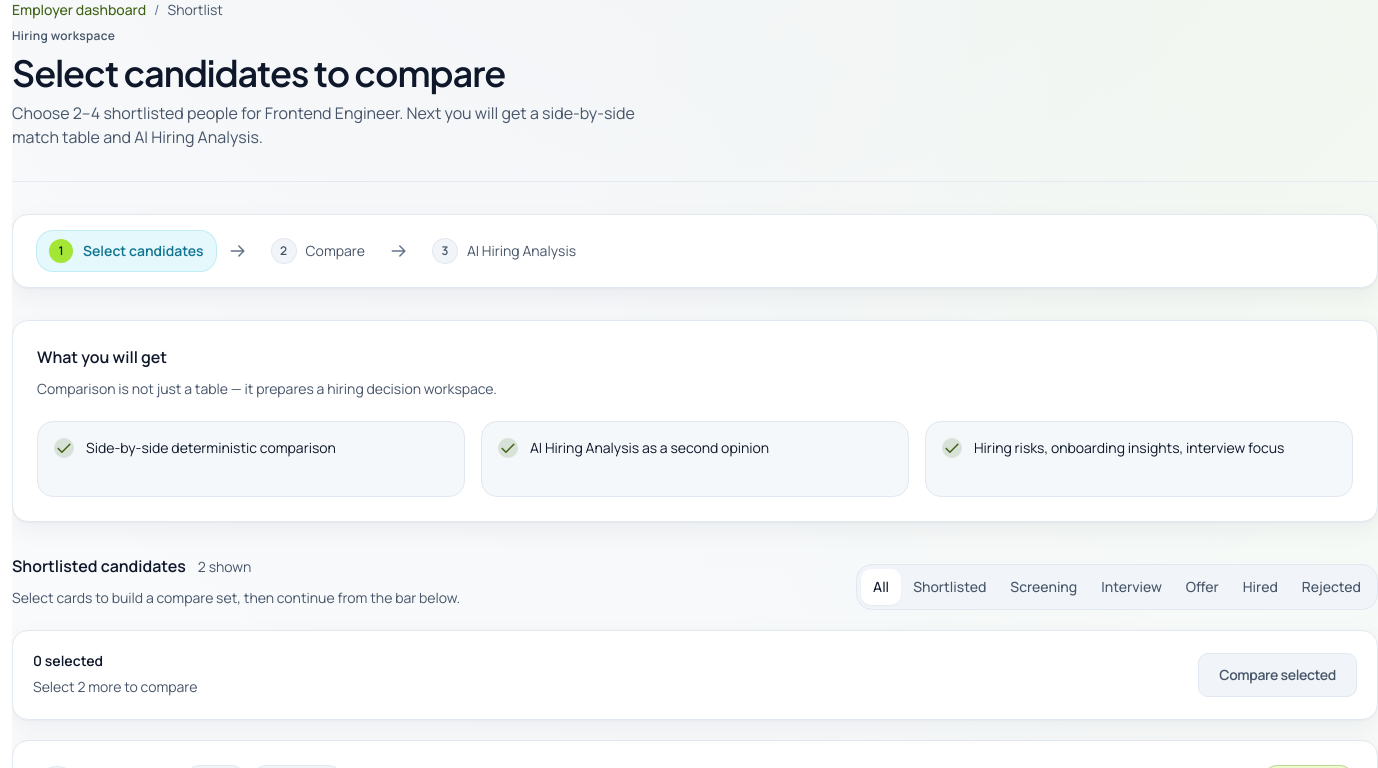
Test: Shortlist comparison selection › shows accessible checkboxes, empty selection, and disabled Compare CTA until two are selected
Expected: the text "0 selected" is shown, [33,651,103,670]
What coordinates should you click on to do the following:
click the button with aria-label "Compare selected candidates"
I would click on:
 (1278, 675)
Its box is [1198,653,1357,697].
(page scrolled)
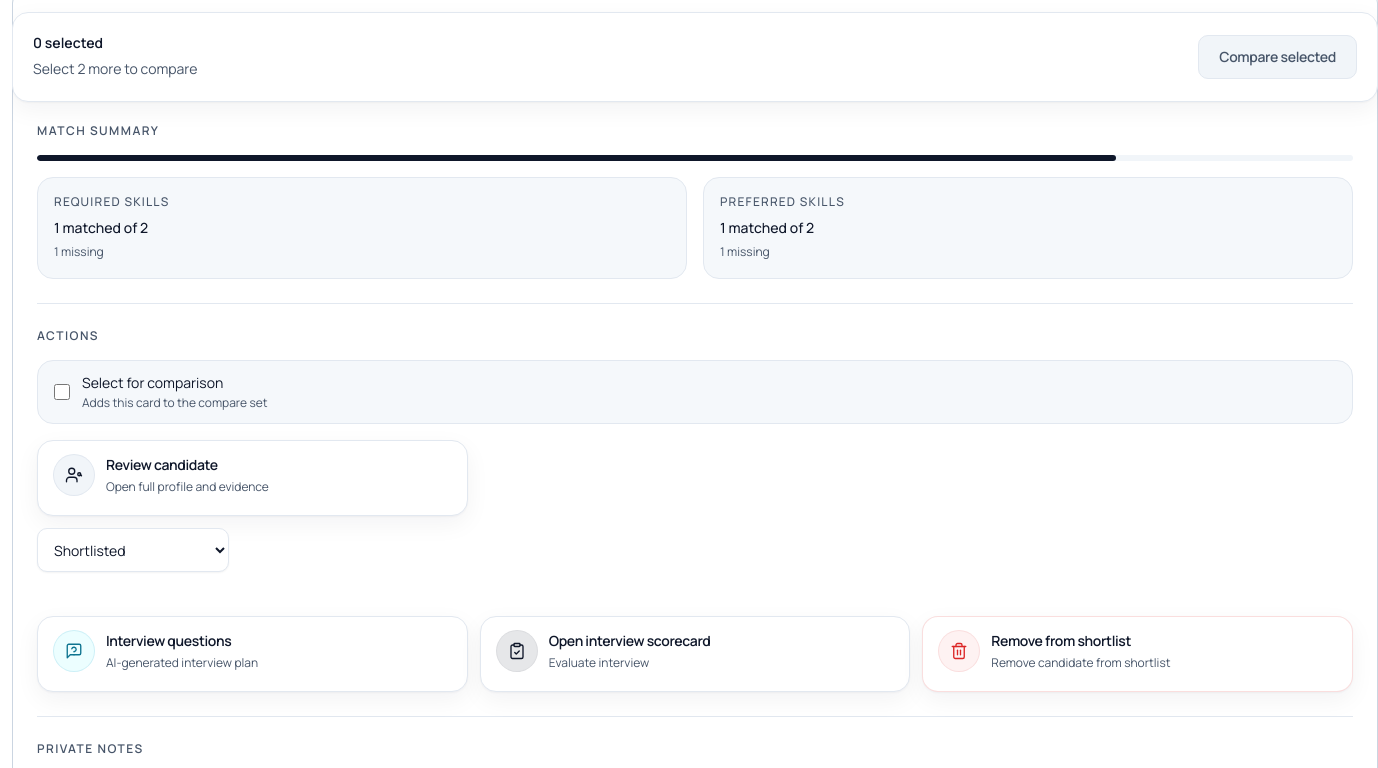
What coordinates should you click on to do the following:
click the checkbox named "Select Alex Morgan for comparison"
I would click on:
 (62, 392)
Its box is [54,384,70,400].
(page scrolled)
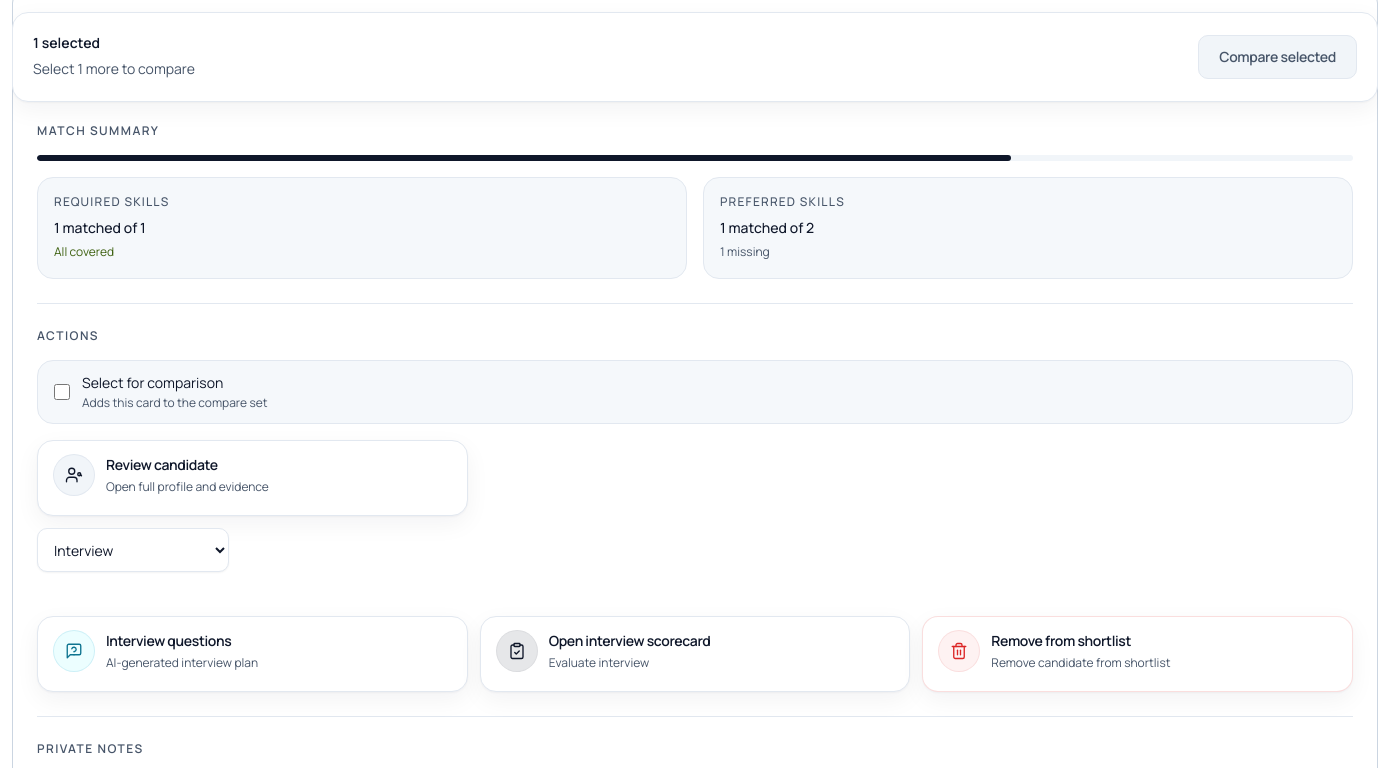
Expected: the button with aria-label "Compare selected candidates" is disabled, [1198,35,1357,79]
Result: the text "1 selected" is shown at [33,33,100,52]
What coordinates should you click on to do the following:
click the checkbox named "Select Bea Chen for comparison"
I would click on:
 (62, 392)
Its box is [54,384,70,400].
(page scrolled)
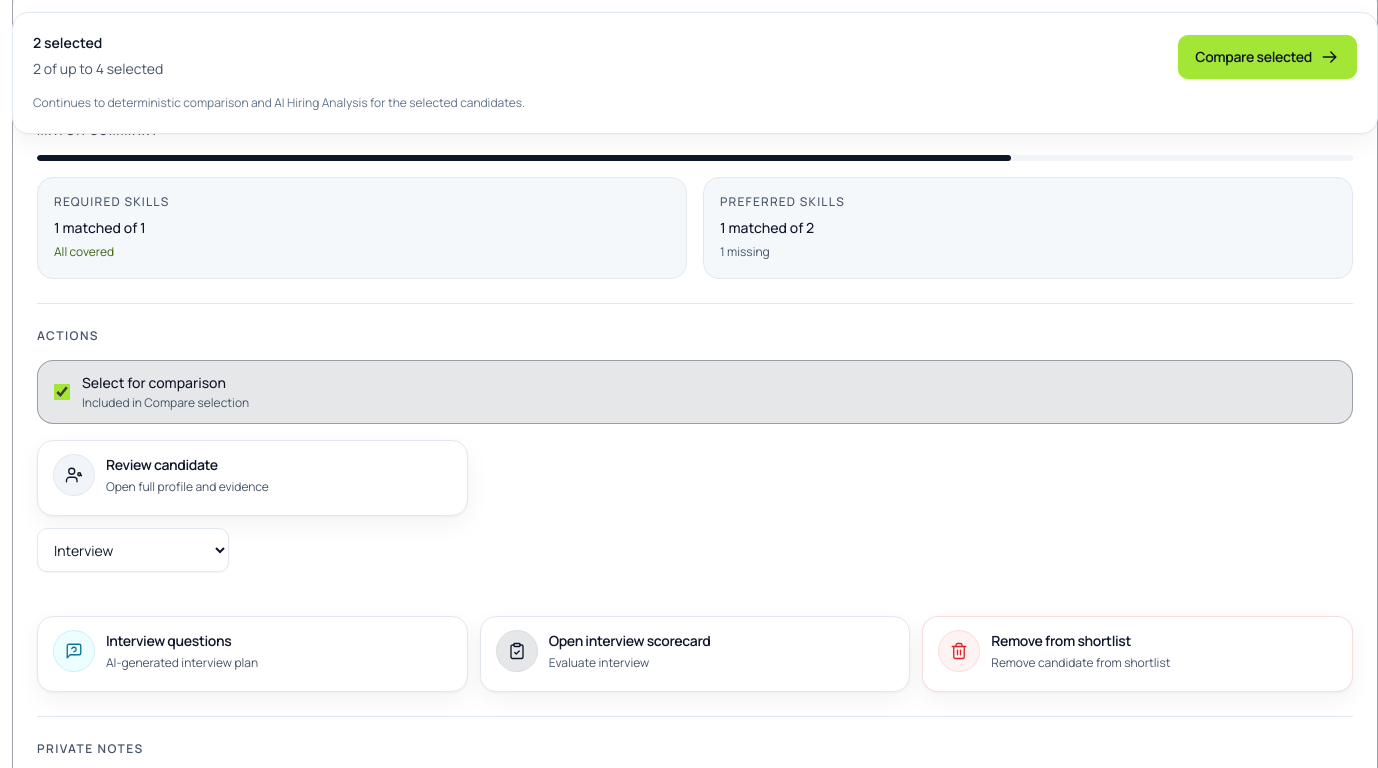
Result: the text "2 selected" is shown at [33,33,102,52]
